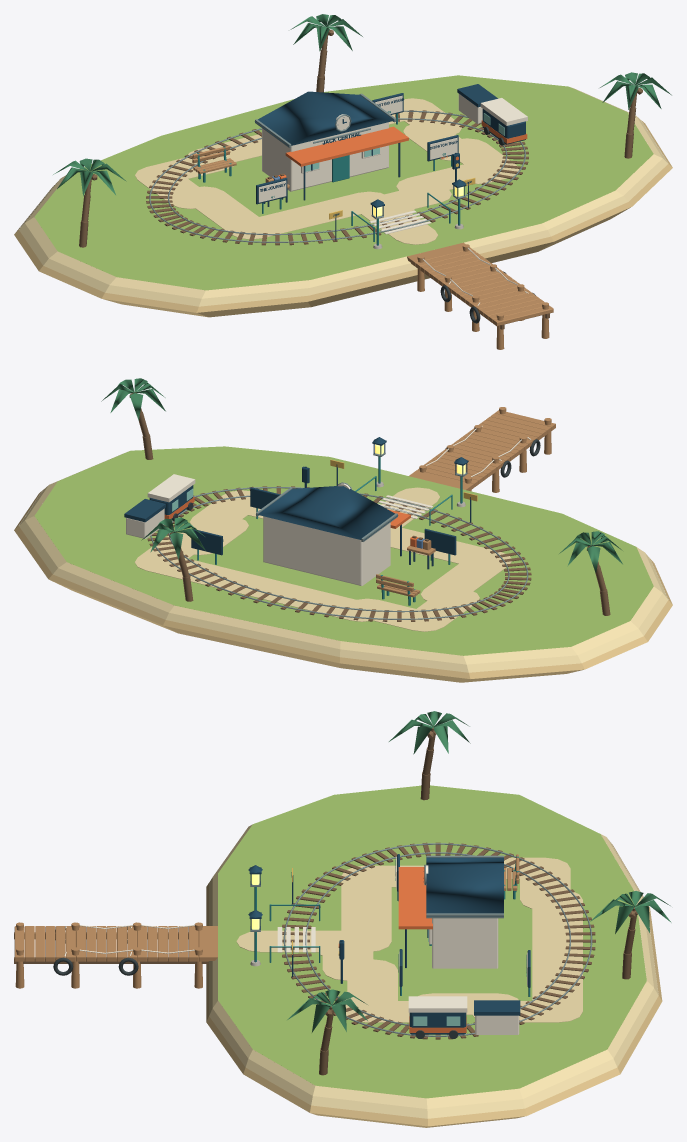
The model's file is amtrak.glb.
The picture shows the model from 3 angles, top to bottom: view 1: azimuth 30°, elevation 25°; view 2: azimuth 150°, elevation 25°; view 3: azimuth 270°, elevation 25°; orthographic projection. The views are drawn at different scales.
Visible parts, largest first — view 1: static_grass, static_sand, static_wood, static_sandEdge, static_darkWood, static_ivory, occluder_amtrak_roof_navy, static_metal, occluder_amtrak_canopy_orange, anim_train_ivory, anim_train_navy, occluder_amtrak_tree_4_leaf (+5 smaller); view 2: static_grass, static_sand, static_sandEdge, static_ivory, static_wood, occluder_amtrak_roof_navy, static_darkWood, static_metal, anim_train_ivory, occluder_amtrak_tree_12_leaf, occluder_amtrak_tree_4_leaf, occluder_amtrak_tree_8_leaf (+5 smaller); view 3: static_grass, static_sand, static_wood, static_darkWood, static_sandEdge, static_ivory, occluder_amtrak_roof_navy, static_metal, anim_train_ivory, occluder_amtrak_canopy_orange, anim_train_navy, occluder_amtrak_tree_4_leaf (+4 smaller).
Boxes of the visible parts, box(x1,y1,x2,y2) form: static_grass: box(34, 75, 653, 290); static_sand: box(19, 87, 668, 306); static_wood: box(192, 145, 553, 349); static_sandEdge: box(14, 120, 672, 317); static_darkWood: box(146, 110, 549, 329); static_ivory: box(262, 114, 528, 305); occluder_amtrak_roof_navy: box(254, 91, 394, 146); static_metal: box(149, 110, 525, 242); occluder_amtrak_canopy_orange: box(285, 126, 408, 166); anim_train_ivory: box(458, 94, 527, 125); anim_train_navy: box(457, 84, 525, 144); occluder_amtrak_tree_4_leaf: box(53, 158, 126, 196); static_grass: box(34, 446, 653, 655); static_sand: box(19, 453, 668, 672); static_sandEdge: box(14, 490, 672, 682); static_ivory: box(263, 426, 530, 585); static_wood: box(376, 407, 555, 597); occluder_amtrak_roof_navy: box(258, 486, 398, 540); static_darkWood: box(147, 480, 531, 621); static_metal: box(150, 452, 528, 619); anim_train_ivory: box(126, 474, 195, 538); occluder_amtrak_tree_12_leaf: box(101, 378, 165, 420); occluder_amtrak_tree_4_leaf: box(559, 531, 622, 572); occluder_amtrak_tree_8_leaf: box(141, 517, 205, 559); static_grass: box(218, 785, 646, 1098); static_sand: box(209, 824, 658, 1118); static_wood: box(14, 854, 519, 988); static_darkWood: box(14, 842, 595, 1039); static_sandEdge: box(206, 843, 662, 1127); static_ivory: box(64, 865, 498, 968); occluder_amtrak_roof_navy: box(426, 857, 503, 916); static_metal: box(250, 843, 592, 1036); anim_train_ivory: box(408, 996, 519, 1034); occluder_amtrak_canopy_orange: box(398, 867, 432, 929); anim_train_navy: box(409, 1000, 520, 1034); occluder_amtrak_tree_4_leaf: box(389, 711, 470, 754).
Size of the model in its own units: 32 by 5.29 by 26.73.
